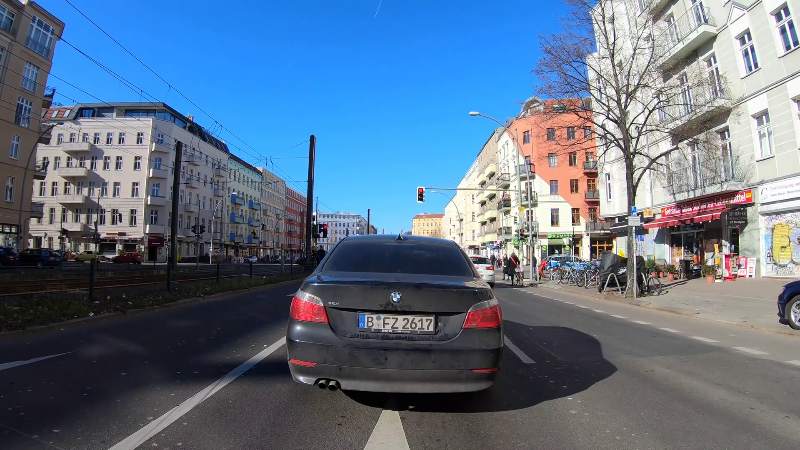Plate: (354, 310, 436, 334)
